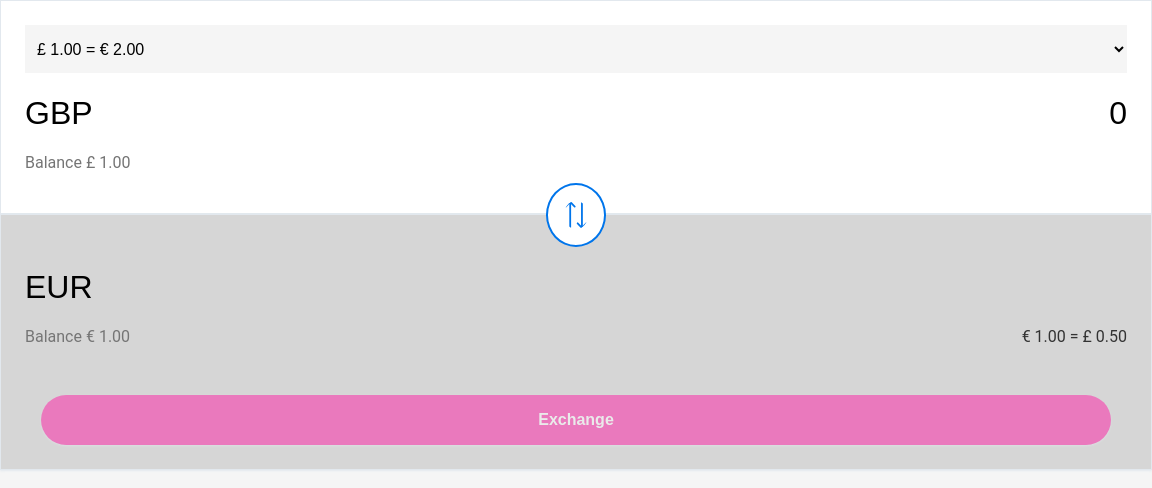
Test: ForeignExchange › update ouput on select currency change
Replace the text in the number field with test id "input-amount" with "2" at (652, 113), box [177,89,1127,137]
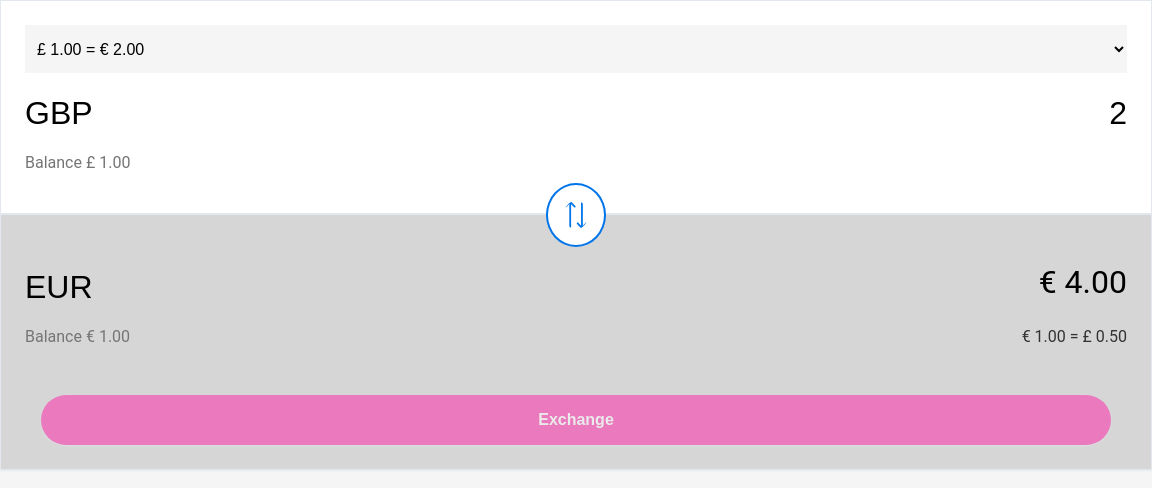
Check: the text "€ 4.00" is shown, box [1039,263,1127,301]
Select "USD" in the dropdown with test id "input-currency-select" at (97, 113), box [17,89,177,137]
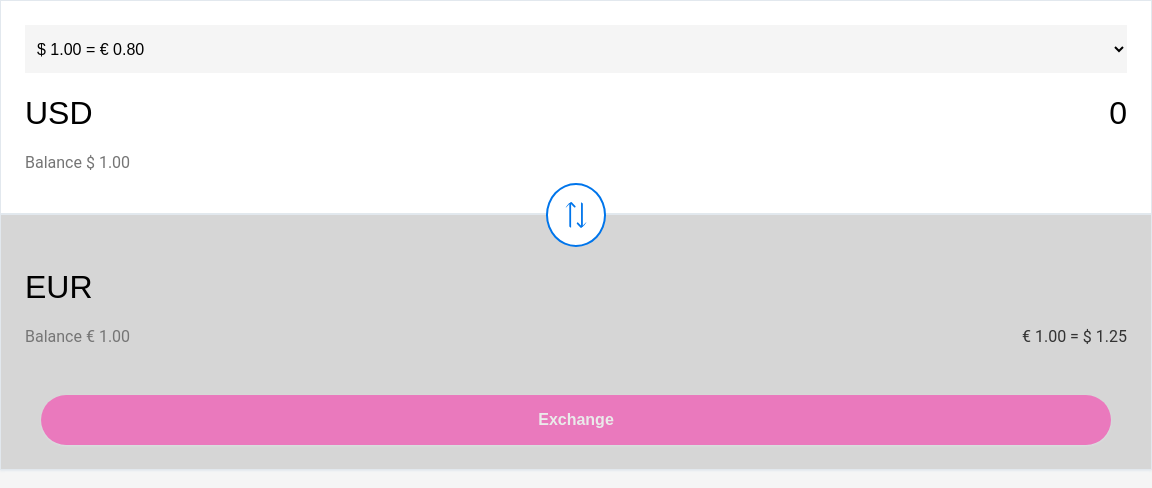
Replace the text in the number field with test id "input-amount" with "1" at (652, 113), box [177,89,1127,137]
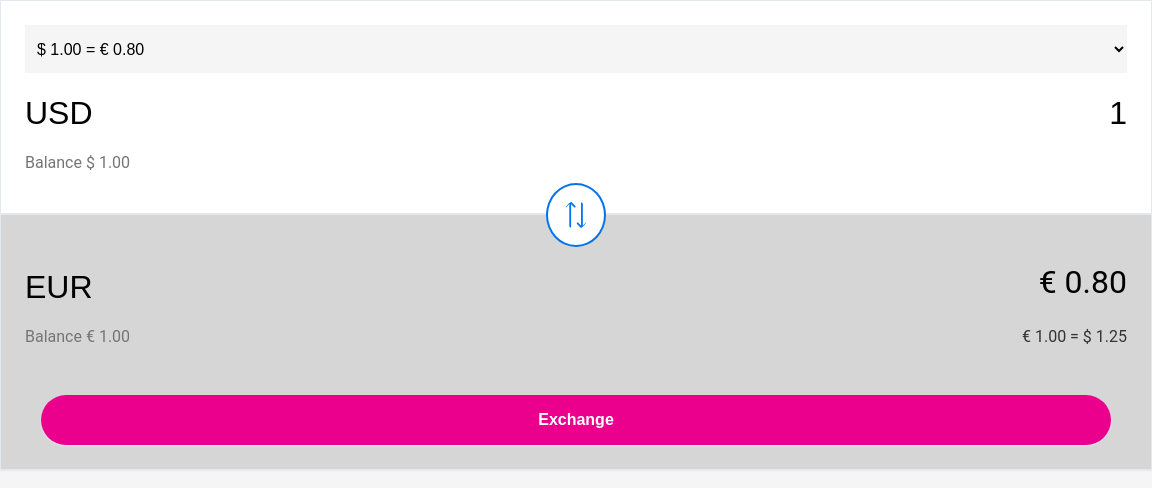
Select "GBP" in the dropdown with test id "output-currency-select" at (97, 287), box [17,263,177,311]
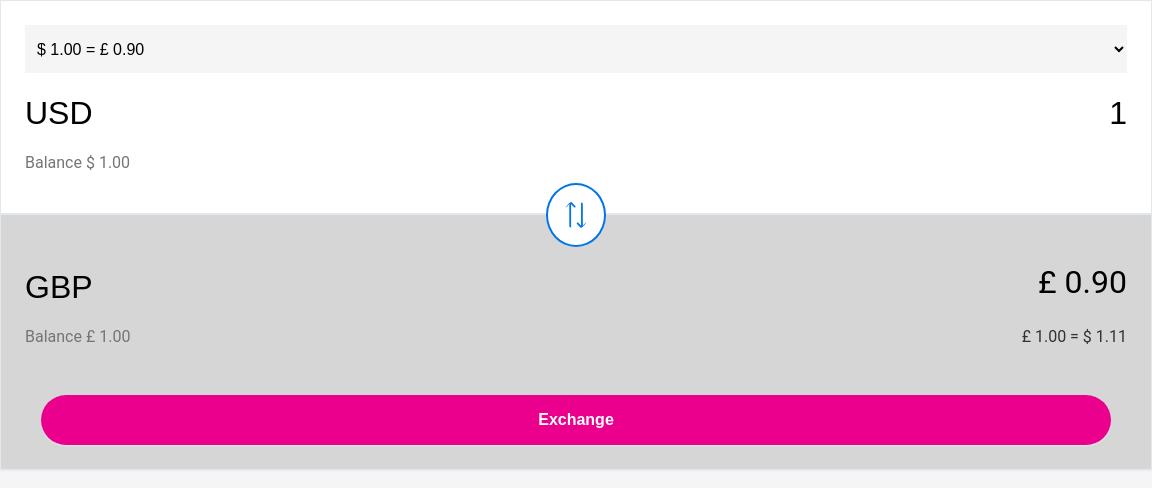
Check: the text "Balance £ 1.00" is shown, box [25,327,130,347]
Select "EUR" in the dropdown with test id "output-currency-select" at (97, 287), box [17,263,177,311]
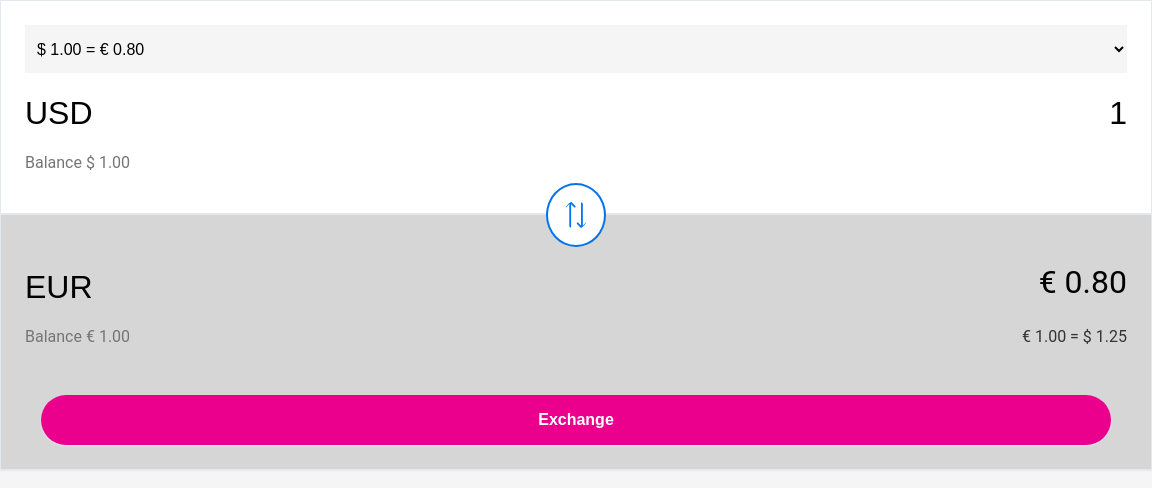
Check: the text "Balance € 1.00" is shown, box [25,327,130,347]
